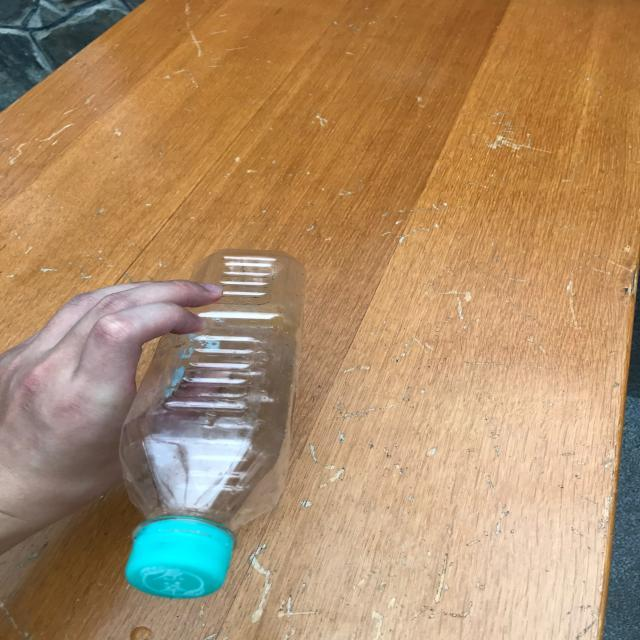plastic_bottle: (119, 250, 306, 598)
